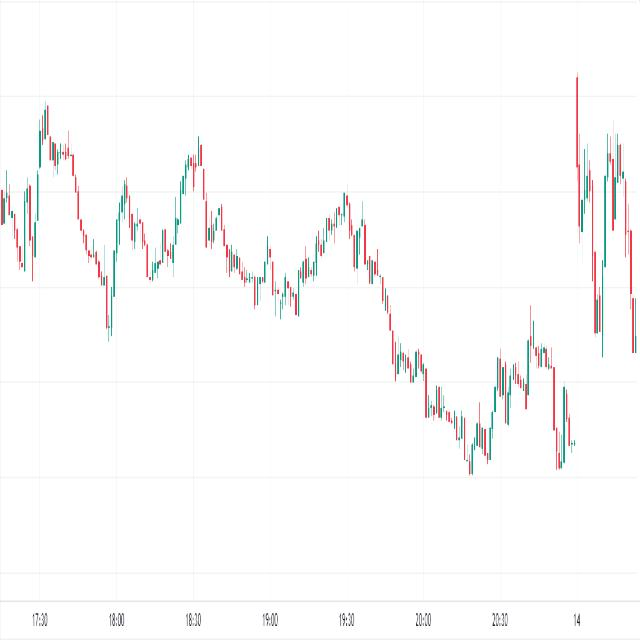Rounding-Bottom: (199, 162, 350, 330)
